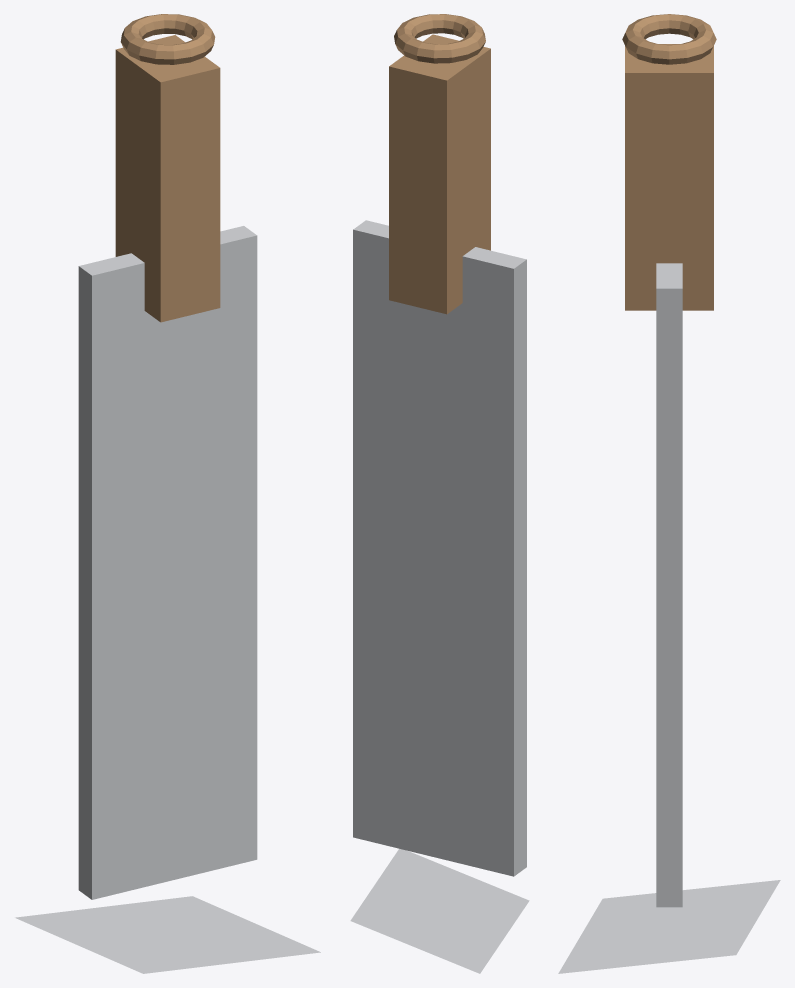
Rendered from knife.glb.
3 views of the same model, side by side, from view 1: azimuth 30°, elevation 25°; view 2: azimuth 150°, elevation 25°; view 3: azimuth 270°, elevation 25° (orthographic). The views are drawn at different scales.
Visible parts, largest first — view 1: Knife_Blade, Knife_Handle, Knife_Tip, Knife_Ring; view 2: Knife_Blade, Knife_Handle, Knife_Tip, Knife_Ring; view 3: Knife_Handle, Knife_Blade, Knife_Tip, Knife_Ring.
Part boxes in pixels (left/top/right/bottom): Knife_Blade: left=78, top=226, right=257, bottom=899; Knife_Handle: left=115, top=35, right=220, bottom=322; Knife_Tip: left=15, top=896, right=320, bottom=973; Knife_Ring: left=120, top=14, right=215, bottom=64; Knife_Blade: left=353, top=220, right=526, bottom=876; Knife_Handle: left=389, top=34, right=490, bottom=314; Knife_Tip: left=350, top=848, right=529, bottom=973; Knife_Ring: left=394, top=14, right=485, bottom=63; Knife_Handle: left=625, top=44, right=713, bottom=310; Knife_Blade: left=656, top=263, right=682, bottom=907; Knife_Tip: left=558, top=880, right=780, bottom=973; Knife_Ring: left=622, top=14, right=716, bottom=64.
Size of the model in its own units: 0.4243 by 1.94 by 0.4243.
